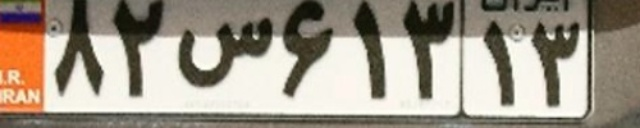1: (350, 1, 387, 98), (481, 19, 515, 107)
2: (110, 1, 169, 97)
3: (401, 0, 456, 100), (529, 19, 579, 106)
6: (279, 0, 342, 98)
8: (50, 1, 104, 96)
sin: (175, 16, 273, 88)
